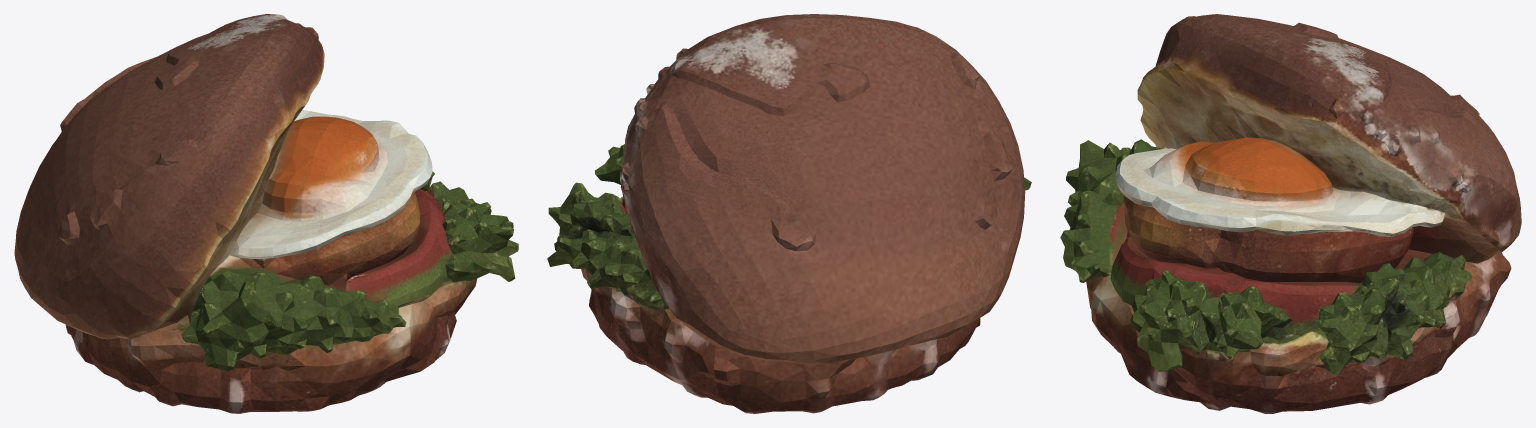
Rendered from food_3.glb.
3 renders of one model, left to right at view 1: azimuth 30°, elevation 25°; view 2: azimuth 150°, elevation 25°; view 3: azimuth 270°, elevation 25°, orthographic.
Parts seen in each view (by area): view 1: tripo_node_3cc1dfcc-f29c-45b8-9c46-b4675fb050f9; view 2: tripo_node_3cc1dfcc-f29c-45b8-9c46-b4675fb050f9; view 3: tripo_node_3cc1dfcc-f29c-45b8-9c46-b4675fb050f9.
Part boxes in pixels (<box>): tripo_node_3cc1dfcc-f29c-45b8-9c46-b4675fb050f9: <box>14,14,518,413</box>; tripo_node_3cc1dfcc-f29c-45b8-9c46-b4675fb050f9: <box>547,14,1031,413</box>; tripo_node_3cc1dfcc-f29c-45b8-9c46-b4675fb050f9: <box>1060,14,1521,413</box>.
Size of the model in its own units: 0.998 by 0.7051 by 0.9668.
1 material, 1 textured.
